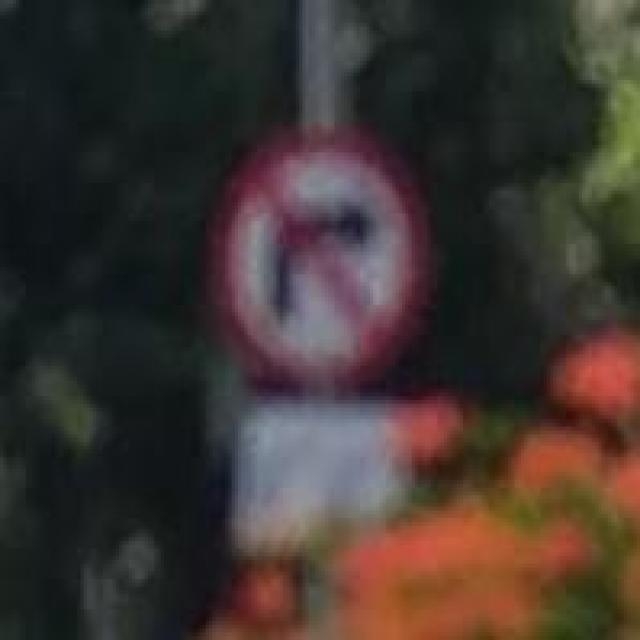traffic sign: (222, 137, 418, 384)
